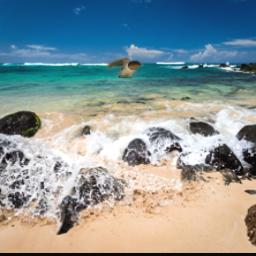Swallow: (107, 58, 143, 79)
